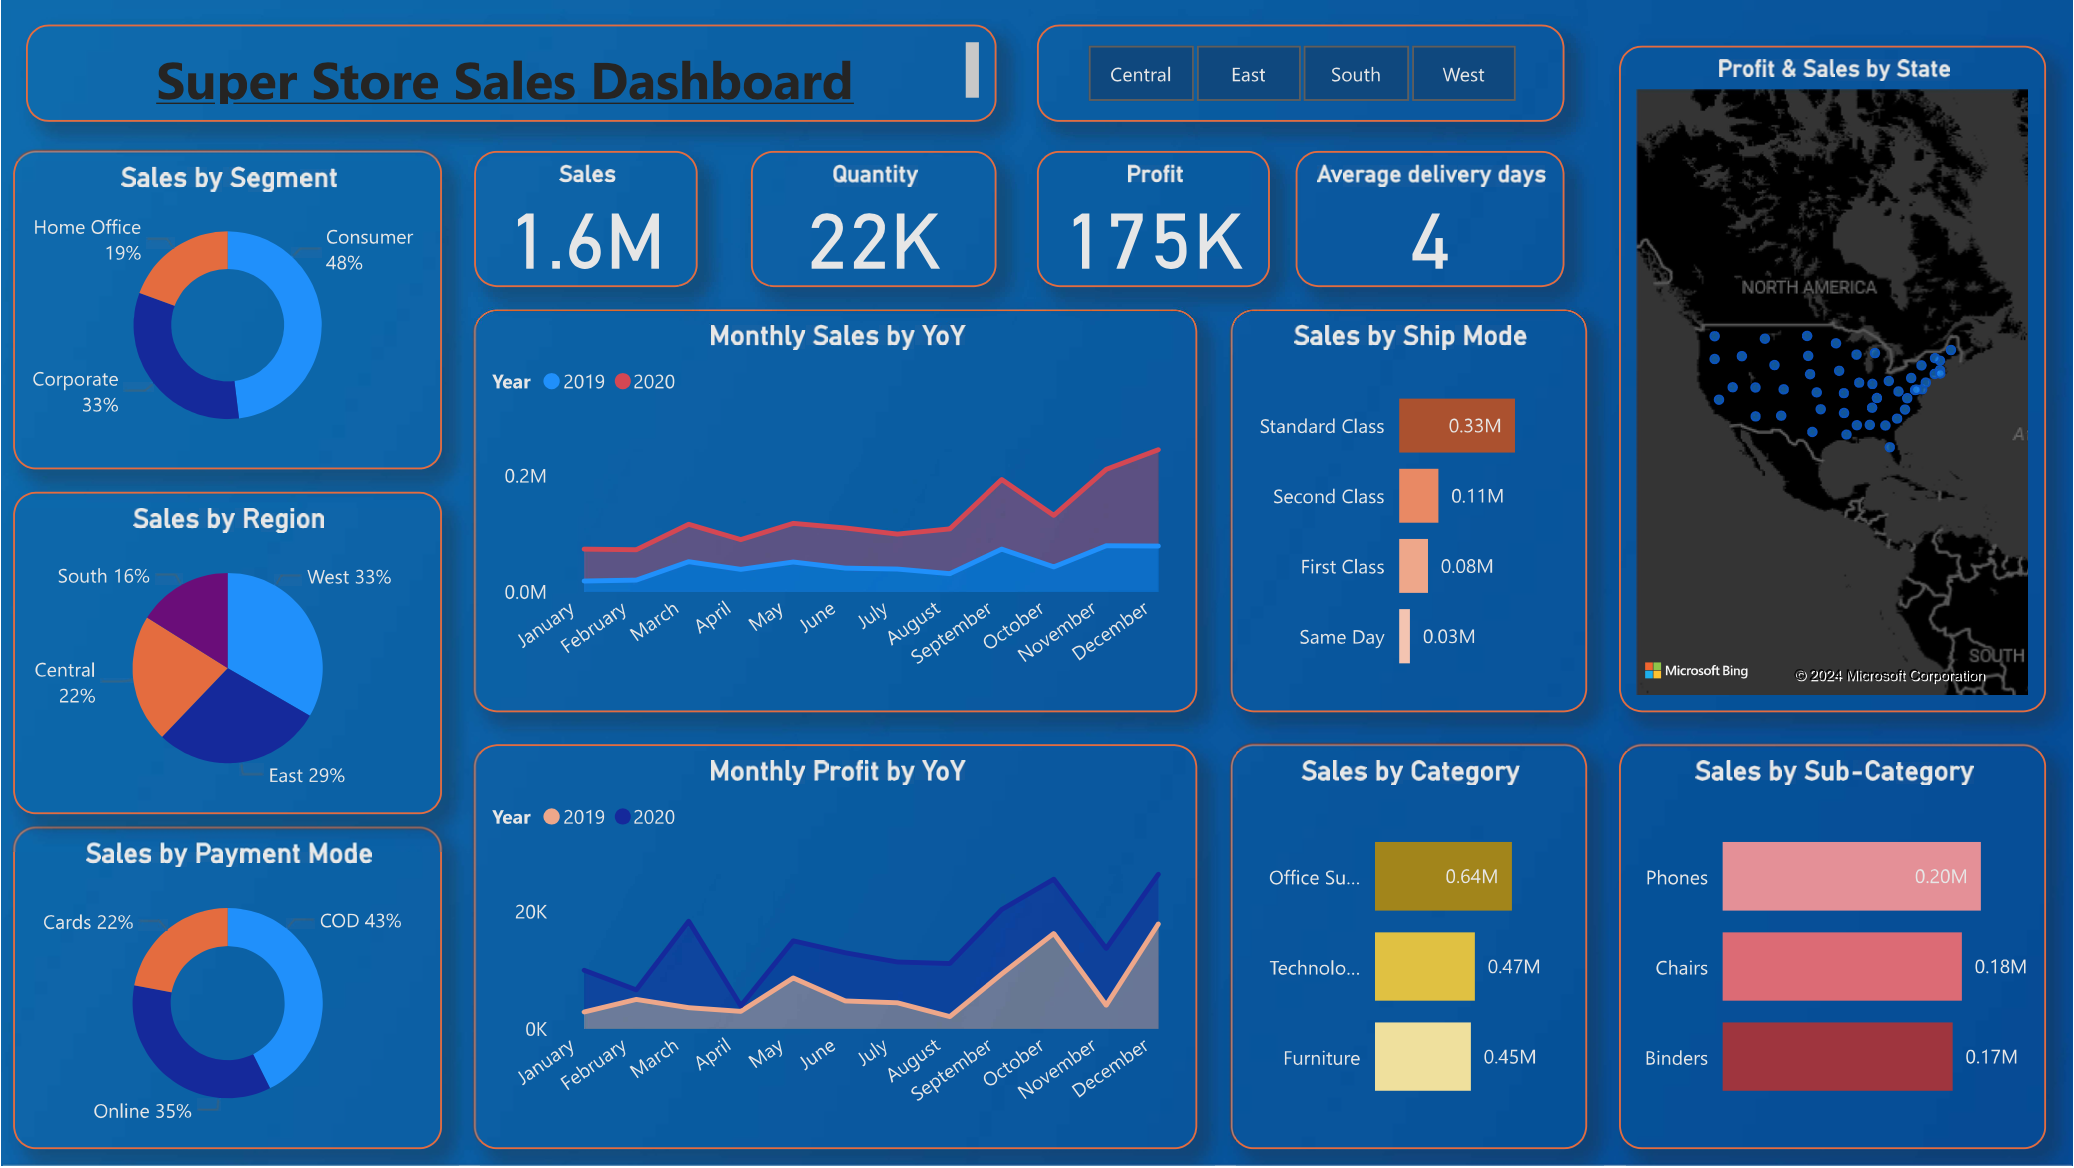

The page's visual inventory and layout, read from the dashboard file:
{"tool":"powerbi","page":{"name":"Sales","canvas":[1280,720],"ordinal":0},"visuals":[{"type":"clusteredBarChart","title":"Sales by Category","fields":{"Category":["SuperStore_Sales_Dataset.Category"],"Y":["Sum(SuperStore_Sales_Dataset.Sales)"]},"box":[760.1,460,220.2,250.3],"z":0},{"type":"clusteredBarChart","title":"Sales by Sub-Category","fields":{"Category":["SuperStore_Sales_Dataset.Sub-Category"],"Y":["Sum(SuperStore_Sales_Dataset.Sales)"]},"box":[1000,460,264.2,250.3],"z":1000},{"type":"clusteredBarChart","title":"Sales by Ship Mode","fields":{"Y":["Sum(SuperStore_Sales_Dataset.Sales)"],"Category":["SuperStore_Sales_Dataset.Ship Mode"]},"box":[760.1,191.2,220.2,249.1],"z":2000},{"type":"stackedAreaChart","title":"Monthly Sales by YoY","fields":{"Category":["SuperStore_Sales_Dataset.Order Date.Variation.Date Hierarchy.Month","SuperStore_Sales_Dataset.Order Date.Variation.Date Hierarchy.Day"],"Y":["Sum(SuperStore_Sales_Dataset.Sales)"],"Series":["SuperStore_Sales_Dataset.Order Date.Variation.Date Hierarchy.Year"]},"box":[292,191.2,447.3,249.1],"z":3000},{"type":"stackedAreaChart","title":"Monthly Profit by YoY","fields":{"Category":["SuperStore_Sales_Dataset.Order Date.Variation.Date Hierarchy.Month","SuperStore_Sales_Dataset.Order Date.Variation.Date Hierarchy.Day"],"Series":["SuperStore_Sales_Dataset.Order Date.Variation.Date Hierarchy.Year"],"Y":["Sum(SuperStore_Sales_Dataset.Profit)"]},"box":[292,460,447.3,250.3],"z":4000},{"type":"donutChart","title":"Sales by Segment","fields":{"Category":["SuperStore_Sales_Dataset.Segment"],"Y":["Sum(SuperStore_Sales_Dataset.Sales)"]},"box":[7,92.7,265.3,197],"z":5000},{"type":"donutChart","title":"Sales by Payment Mode","fields":{"Y":["Sum(SuperStore_Sales_Dataset.Sales)"],"Category":["SuperStore_Sales_Dataset.Payment Mode"]},"box":[7,511,265.3,199.3],"z":6000},{"type":"slicer","fields":{"Values":["SuperStore_Sales_Dataset.Region"]},"box":[639.6,15.1,326.8,60.3],"z":7000},{"type":"textbox","box":[15.1,15.1,600.2,60.3],"z":8000},{"type":"card","title":"Sales","fields":{"Values":["Sum(SuperStore_Sales_Dataset.Sales)"]},"box":[292,92.7,137.9,84.6],"z":9000},{"type":"card","title":"Profit","fields":{"Values":["Sum(SuperStore_Sales_Dataset.Profit)"]},"box":[639.6,92.7,144.8,84.6],"z":10000},{"type":"card","title":"Quantity","fields":{"Values":["Sum(SuperStore_Sales_Dataset.Quantity)"]},"box":[463.5,92.7,151.8,84.6],"z":11000},{"type":"card","title":"Average delivery days","fields":{"Values":["Avg(SuperStore_Sales_Dataset.AvgDelivery)"]},"box":[799.5,92.7,166.9,84.6],"z":12000},{"type":"actionButton","box":[0,0,100,40],"z":13000},{"type":"map","title":"Profit & Sales by State","fields":{"Category":["SuperStore_Sales_Dataset.State"]},"box":[1000,27.8,264.2,412.5],"z":14000},{"type":"pieChart","title":"Sales by Region","fields":{"Y":["Sum(SuperStore_Sales_Dataset.Sales)"],"Category":["SuperStore_Sales_Dataset.Region"]},"box":[7,303.6,265.3,199.3],"z":15000}]}

Visuals, with their boxes in screenshot pixels (x1, y1, x2, y2), scaled from the page's 1280x720 canvas onto the 2074x1168 screenshot:
"Sales by Category" clusteredBarChart: box(1232, 746, 1588, 1152)
"Sales by Sub-Category" clusteredBarChart: box(1620, 746, 2048, 1152)
"Sales by Ship Mode" clusteredBarChart: box(1232, 310, 1588, 714)
"Monthly Sales by YoY" stackedAreaChart: box(473, 310, 1198, 714)
"Monthly Profit by YoY" stackedAreaChart: box(473, 746, 1198, 1152)
"Sales by Segment" donutChart: box(11, 150, 441, 470)
"Sales by Payment Mode" donutChart: box(11, 829, 441, 1152)
slicer - SuperStore_Sales_Dataset.Region: box(1036, 24, 1566, 122)
textbox: box(24, 24, 997, 122)
"Sales" card: box(473, 150, 697, 288)
"Profit" card: box(1036, 150, 1271, 288)
"Quantity" card: box(751, 150, 997, 288)
"Average delivery days" card: box(1295, 150, 1566, 288)
actionButton: box(0, 0, 162, 65)
"Profit & Sales by State" map: box(1620, 45, 2048, 714)
"Sales by Region" pieChart: box(11, 493, 441, 816)
